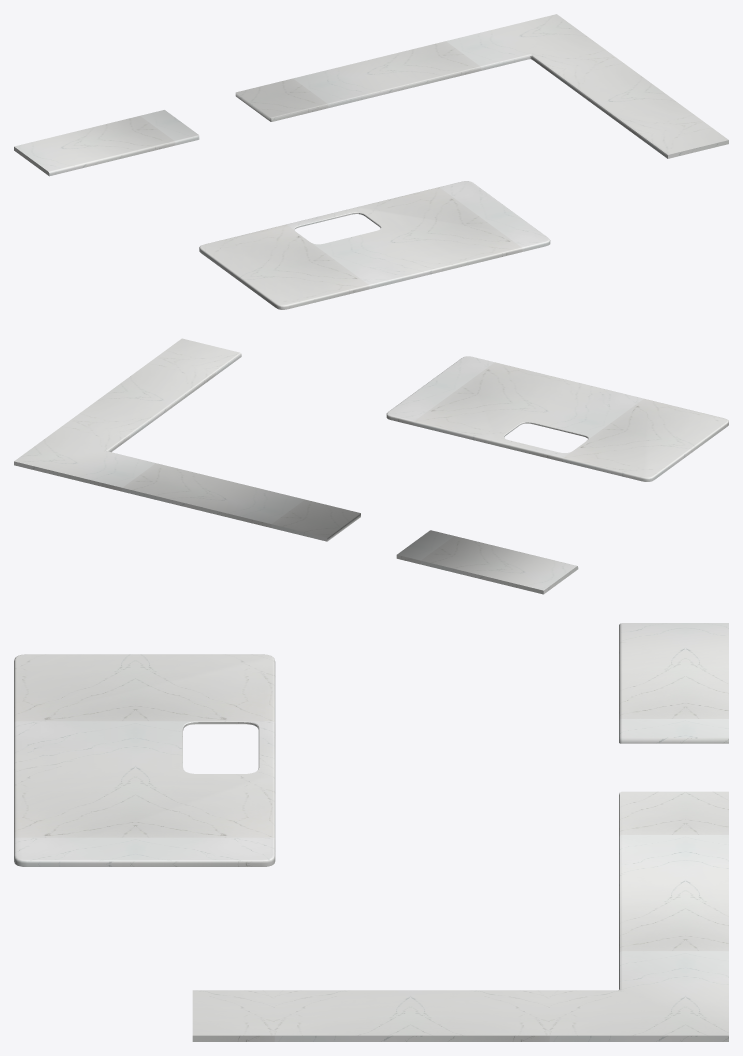
File: Countertops_QuartzCalacattaUltra.glb
The picture shows the model from 3 angles, top to bottom: view 1: azimuth 30°, elevation 25°; view 2: azimuth 150°, elevation 25°; view 3: azimuth 270°, elevation 25°; orthographic projection. The views are drawn at different scales.
Parts seen in each view (by area): view 1: Countertop_quartz_calacatta_ultra.001; view 2: Countertop_quartz_calacatta_ultra.001; view 3: Countertop_quartz_calacatta_ultra.001.
Part boxes in pixels (left/top/right/bottom): Countertop_quartz_calacatta_ultra.001: left=14, top=14, right=728, bottom=309; Countertop_quartz_calacatta_ultra.001: left=14, top=338, right=728, bottom=594; Countertop_quartz_calacatta_ultra.001: left=14, top=623, right=728, bottom=1041.
Size of the model in its own units: 7.1 by 0.07 by 5.2.
Materials: 1 (1 with a texture image).
